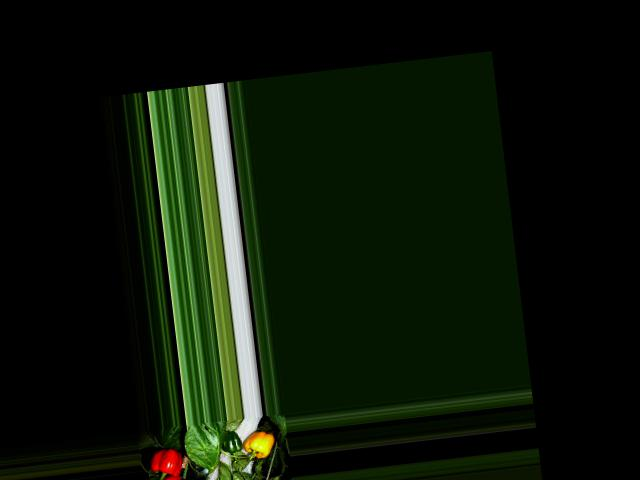bell_pepper: (241, 426, 279, 461)
